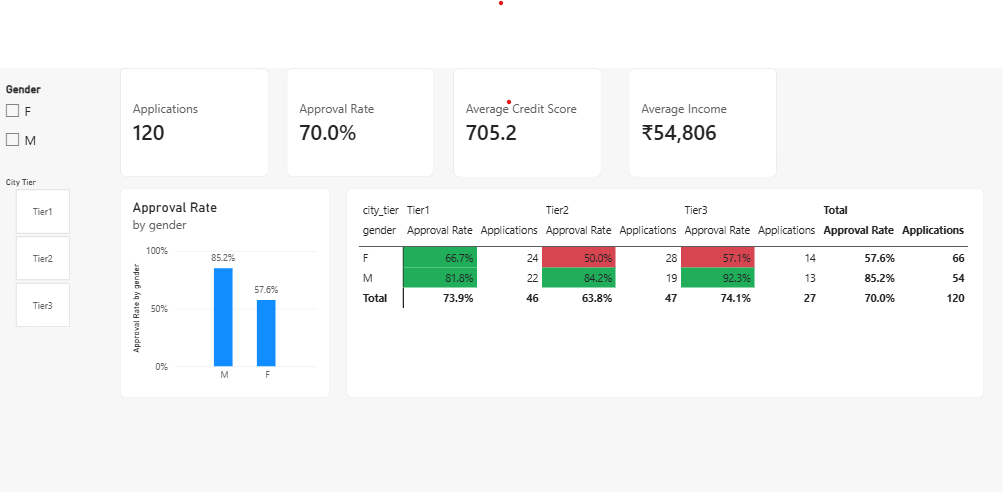

What the dashboard file says about the page in this screenshot:
{"tool":"powerbi","page":{"name":"Page 1","canvas":[1920,1080],"ordinal":0},"visuals":[{"type":"cardVisual","fields":{"Data":["Count(applications clean.applicant_id)"]},"box":[160,0,198.6,145.7],"z":0},{"type":"cardVisual","fields":{"Data":["Avg(applications clean.approved)"]},"box":[382.9,0,197.1,145.7],"z":1},{"type":"cardVisual","fields":{"Data":["Avg(applications clean.Score Clean)"]},"box":[604,0,198,146],"z":2},{"type":"cardVisual","fields":{"Data":["applications clean.Average Income Text"]},"box":[838,0,198,146],"z":3},{"type":"slicer","fields":{"Values":["applications clean.gender"]},"box":[0,20,117.1,103.6],"z":4},{"type":"slicer","fields":{"Values":["applications clean.city_tier"]},"box":[0,145,112.2,201.1],"z":5},{"type":"clusteredColumnChart","fields":{"Category":["applications clean.gender"],"Y":["Avg(applications clean.approved)"]},"box":[160,160,280,280],"z":6},{"type":"pivotTable","fields":{"Columns":["applications clean.city_tier"],"Rows":["applications clean.gender"],"Values":["Avg(applications clean.approved)","Count(applications clean.applicant_id)"]},"box":[462,160,850,280],"z":7}]}

Visuals, with their boxes on the page's 1920x1080 design canvas (x1, y1, x2, y2). These are canvas units, not pixel positions in the 1003x492 screenshot, which may show the page scaled, cropped or inside an application window:
cardVisual - Count(applications clean.applicant_id): bbox(160, 0, 359, 146)
cardVisual - Avg(applications clean.approved): bbox(383, 0, 580, 146)
cardVisual - Avg(applications clean.Score Clean): bbox(604, 0, 802, 146)
cardVisual - applications clean.Average Income Text: bbox(838, 0, 1036, 146)
slicer - applications clean.gender: bbox(0, 20, 117, 124)
slicer - applications clean.city_tier: bbox(0, 145, 112, 346)
clusteredColumnChart - applications clean.gender x Avg(applications clean.approved): bbox(160, 160, 440, 440)
pivotTable - applications clean.city_tier x applications clean.gender: bbox(462, 160, 1312, 440)
